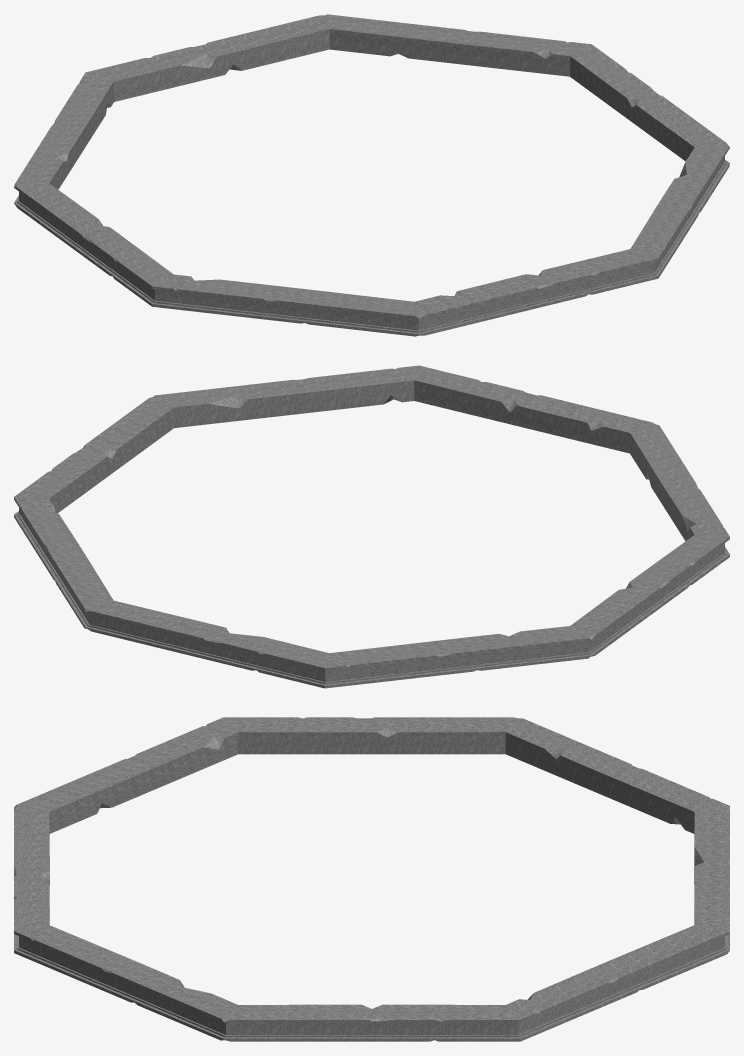
File: materials_3_base_8.fbx
The picture shows the model from 3 angles, top to bottom: view 1: azimuth 30°, elevation 25°; view 2: azimuth 150°, elevation 25°; view 3: azimuth 270°, elevation 25°; orthographic projection. The views are drawn at different scales.
Visible parts, largest first — view 1: materials_3_base_8; view 2: materials_3_base_8; view 3: materials_3_base_8.
Part boxes in pixels (x1,y1,x2,y2): materials_3_base_8: (14, 14, 729, 336); materials_3_base_8: (14, 365, 729, 688); materials_3_base_8: (14, 717, 729, 1041).
Size of the model in its own units: 5019 by 169 by 5019.
